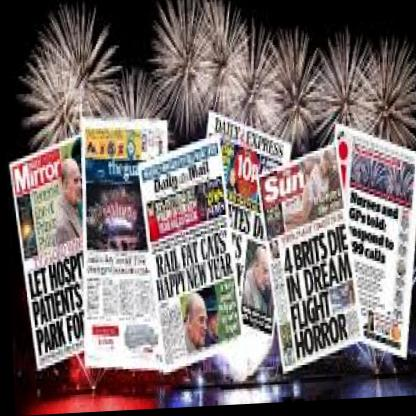Paper: (13, 88, 416, 415)
